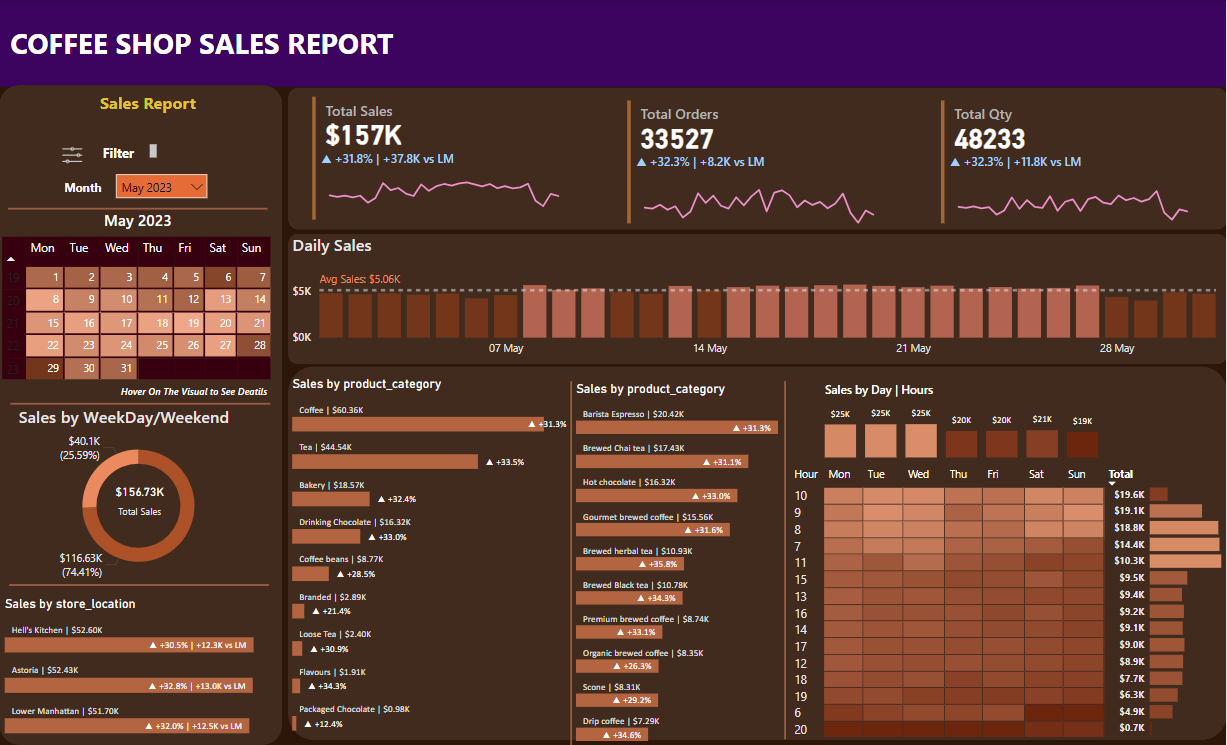

The page's visual inventory and layout, read from the dashboard file:
{"tool":"powerbi","page":{"name":"Page 1","canvas":[1400,850],"ordinal":0},"visuals":[{"type":"shape","box":[0,0,1400.3,99.1],"z":0},{"type":"shape","box":[1.5,97.6,322.7,751.9],"z":1000},{"type":"shape","box":[330.2,99.1,1070.1,162.1],"z":2000},{"type":"textbox","box":[0,22.8,485.7,76.9],"z":3000},{"type":"cardVisual","fields":{"Data":["Transactions.Total Sales"]},"box":[353.2,105.4,300.5,151],"z":4000,"group":"g1"},{"type":"cardVisual","fields":{"Data":["Transactions.Total Orders"]},"box":[711.4,109.7,300.5,151],"z":4000,"group":"g2"},{"type":"cardVisual","fields":{"Data":["Transactions.Total Qty"]},"box":[1069.6,109.7,300.5,151],"z":4000,"group":"g3"},{"type":"slicer","fields":{"Values":["Date Table.Month Year"]},"box":[129.1,193.6,114.1,39],"z":4000},{"type":"group","id":"g1","title":"Group 1","box":[353.2,105.4,300.5,151],"z":5000},{"type":"lineChart","fields":{"Y":["Transactions.Total Sales"],"Category":["Date Table.Date.Variation.Date Hierarchy.Year","Date Table.Date.Variation.Date Hierarchy.Quarter","Date Table.Date.Variation.Date Hierarchy.Month","Date Table.Date.Variation.Date Hierarchy.Day"]},"box":[363.2,170.9,290.6,85.5],"z":5001,"group":"g1"},{"type":"lineChart","fields":{"Category":["Date Table.Date.Variation.Date Hierarchy.Year","Date Table.Date.Variation.Date Hierarchy.Quarter","Date Table.Date.Variation.Date Hierarchy.Month","Date Table.Date.Variation.Date Hierarchy.Day"],"Y":["Transactions.Total Orders"]},"box":[721.4,175.2,290.6,85.5],"z":5001,"group":"g2"},{"type":"lineChart","fields":{"Category":["Date Table.Date.Variation.Date Hierarchy.Year","Date Table.Date.Variation.Date Hierarchy.Quarter","Date Table.Date.Variation.Date Hierarchy.Month","Date Table.Date.Variation.Date Hierarchy.Day"],"Y":["Transactions.Total Qty"]},"box":[1079.6,175.2,290.6,85.5],"z":5001,"group":"g3"},{"type":"group","id":"g2","title":"Group 1","box":[711.4,109.7,300.5,151],"z":6000},{"type":"group","id":"g3","title":"Group 1","box":[1069.6,109.7,300.5,151],"z":7000},{"type":"pivotTable","fields":{"Rows":["Date Table.Week num"],"Columns":["Date Table.Day Name"],"Values":["Sum(Date Table.Day No)"]},"box":[0,264.9,324.7,207.9],"z":8000},{"type":"card","fields":{"Values":["Min(Date Table.Month Year)"]},"box":[109.7,239.3,99.7,49.8],"z":9000},{"type":"card","fields":{"Values":["Transactions.FOOT NOTE"]},"box":[111.1,434.4,225,51.3],"z":10000},{"type":"shape","box":[14.2,447.2,296.2,25.6],"z":11000},{"type":"shape","box":[12,225.1,295.7,25.5],"z":12000},{"type":"donutChart","title":"Sales by WeekDay/Weekend","fields":{"Category":["Date Table.WeekDay/Weekend"],"Y":["Transactions.Total Sales"]},"box":[18.5,461.5,283.4,205.1],"z":13000},{"type":"card","fields":{"Values":["Transactions.Total Sales"]},"box":[106.8,536.9,109.7,64.1],"z":14000},{"type":"shape","box":[12.8,653.7,296.2,25.6],"z":15000},{"type":"clusteredBarChart","title":"Sales by store_location","fields":{"Category":["Transactions.store_location"],"Y":["Transactions.PlaceHolder","Transactions.Total Sales"]},"box":[2.8,679.4,319,163.8],"z":16000},{"type":"shape","box":[330.2,265.7,1070.1,148.6],"z":17000},{"type":"clusteredColumnChart","title":"Daily  Sales   ","fields":{"Category":["Transactions.transaction_date"],"Y":["Transactions.Total Sales"]},"box":[330.2,265.7,1070.1,148.6],"z":18000},{"type":"shape","box":[330.2,417.2,1070.1,426.2],"z":19000},{"type":"clusteredBarChart","title":"  Sales by product_category","fields":{"Category":["Transactions.product_category"],"Y":["Transactions.PlaceHolder","Transactions.Total Sales"]},"box":[330.2,429.2,322.7,409.7],"z":20000},{"type":"shape","box":[637.9,433.7,30,415.7],"z":21000},{"type":"clusteredBarChart","title":"     Sales by product_category","fields":{"Y":["Transactions.PlaceHolder","Transactions.Total Sales"],"Category":["Transactions.product_type"]},"box":[654.4,433.7,271.7,415.7],"z":22000},{"type":"shape","box":[891.5,433.7,10.5,408.2],"z":23000},{"type":"pivotTable","fields":{"Rows":["Transactions.Hour"],"Columns":["Date Table.Day Name"],"Values":["Transactions.Total Sales"]},"box":[897.5,526.8,420.2,322.7],"z":24000},{"type":"barChart","fields":{"Y":["Transactions.Total Sales"],"Category":["Transactions.Hour"]},"box":[1307.3,543.3,93.1,300.2],"z":25000},{"type":"columnChart","title":"Sales by Day | Hours","fields":{"Y":["Transactions.Total Sales"],"Category":["Date Table.Day Name"]},"box":[936.5,433.7,322.7,93.1],"z":26000},{"type":"textbox","box":[45,199.6,102.1,34.5],"z":27000},{"type":"textbox","box":[111.1,99.1,144.1,37.5],"z":28000},{"type":"textbox","box":[84,159.1,102.1,34.5],"z":29000},{"type":"image","box":[63,159.1,43.5,34.5],"z":30000}]}

Visuals, with their boxes in screenshot pixels (x1, y1, x2, y2), scaled from the page's 1400x850 canvas onto the 1227x745 screenshot:
shape: [left=0, top=0, right=1226, bottom=87]
shape: [left=1, top=86, right=284, bottom=744]
shape: [left=289, top=87, right=1226, bottom=229]
textbox: [left=0, top=20, right=426, bottom=87]
cardVisual - Transactions.Total Sales: [left=310, top=92, right=573, bottom=225]
cardVisual - Transactions.Total Orders: [left=623, top=96, right=887, bottom=228]
cardVisual - Transactions.Total Qty: [left=937, top=96, right=1201, bottom=228]
slicer - Date Table.Month Year: [left=113, top=170, right=213, bottom=204]
"Group 1" group: [left=310, top=92, right=573, bottom=225]
lineChart - Transactions.Total Sales x Date Table.Date.Variation.Date Hierarchy.Year: [left=318, top=150, right=573, bottom=225]
lineChart - Date Table.Date.Variation.Date Hierarchy.Year x Date Table.Date.Variation.Date Hierarchy.Quarter: [left=632, top=154, right=887, bottom=228]
lineChart - Date Table.Date.Variation.Date Hierarchy.Year x Date Table.Date.Variation.Date Hierarchy.Quarter: [left=946, top=154, right=1201, bottom=228]
"Group 1" group: [left=623, top=96, right=887, bottom=228]
"Group 1" group: [left=937, top=96, right=1201, bottom=228]
pivotTable - Date Table.Week num x Date Table.Day Name: [left=0, top=232, right=285, bottom=414]
card - Min(Date Table.Month Year): [left=96, top=210, right=184, bottom=253]
card - Transactions.FOOT NOTE: [left=97, top=381, right=295, bottom=426]
shape: [left=12, top=392, right=272, bottom=414]
shape: [left=11, top=197, right=270, bottom=220]
"Sales by WeekDay/Weekend" donutChart: [left=16, top=404, right=265, bottom=584]
card - Transactions.Total Sales: [left=94, top=471, right=190, bottom=527]
shape: [left=11, top=573, right=271, bottom=595]
"Sales by store_location" clusteredBarChart: [left=2, top=595, right=282, bottom=739]
shape: [left=289, top=233, right=1226, bottom=363]
"Daily  Sales   " clusteredColumnChart: [left=289, top=233, right=1226, bottom=363]
shape: [left=289, top=366, right=1226, bottom=739]
"  Sales by product_category" clusteredBarChart: [left=289, top=376, right=572, bottom=735]
shape: [left=559, top=380, right=585, bottom=744]
"     Sales by product_category" clusteredBarChart: [left=574, top=380, right=812, bottom=744]
shape: [left=781, top=380, right=791, bottom=738]
pivotTable - Transactions.Hour x Date Table.Day Name: [left=787, top=462, right=1155, bottom=744]
barChart - Transactions.Total Sales x Transactions.Hour: [left=1146, top=476, right=1226, bottom=739]
"Sales by Day | Hours" columnChart: [left=821, top=380, right=1104, bottom=462]
textbox: [left=39, top=175, right=129, bottom=205]
textbox: [left=97, top=87, right=224, bottom=120]
textbox: [left=74, top=139, right=163, bottom=170]
image: [left=55, top=139, right=93, bottom=170]
